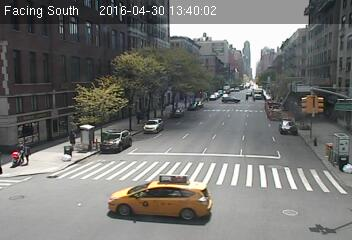neg: (18, 46, 60, 101), (52, 164, 82, 205), (295, 88, 322, 123), (158, 52, 184, 87), (248, 176, 270, 205), (99, 51, 119, 78), (295, 187, 315, 213), (187, 137, 206, 161), (227, 105, 245, 128), (129, 110, 145, 132), (242, 74, 256, 93), (148, 172, 162, 190)
pos: (23, 143, 37, 162), (66, 129, 79, 146)
